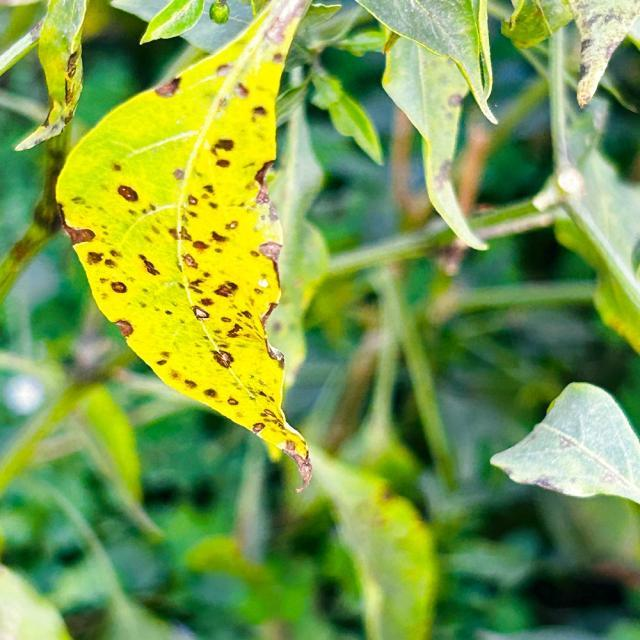Bercak Daun Serkospora: (54, 0, 317, 492)
